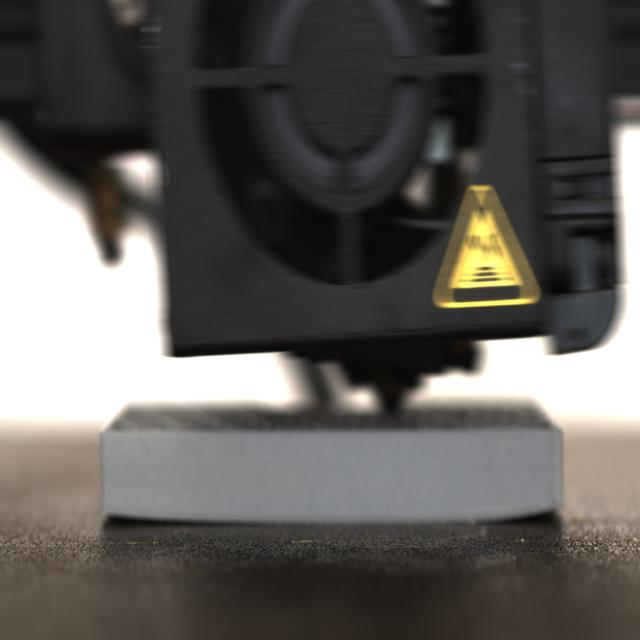Warping: (95, 502, 165, 532), (500, 496, 563, 529)
